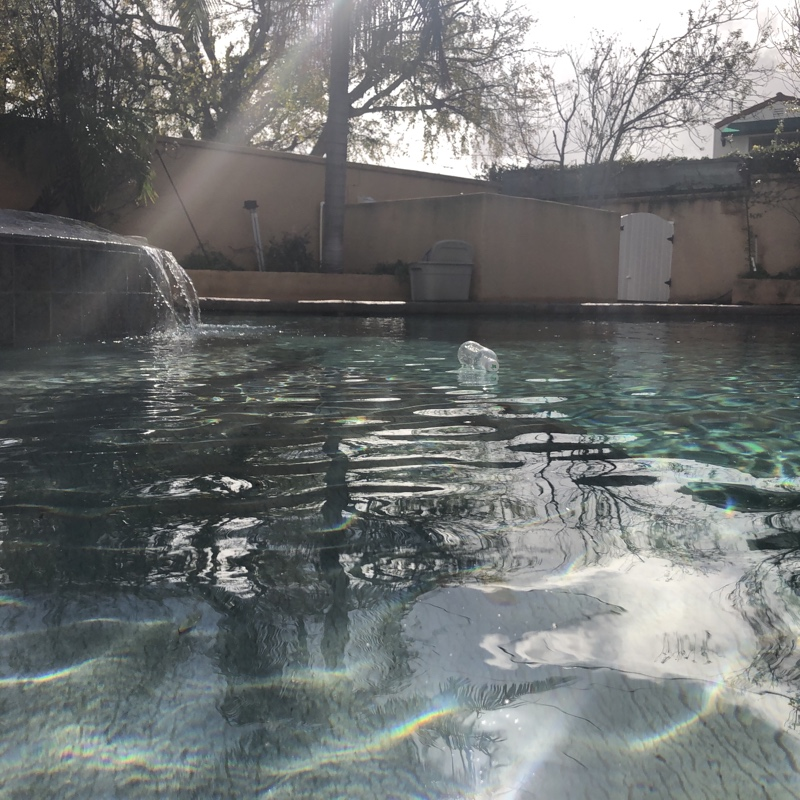Plastic Bottle: (453, 338, 502, 378)
